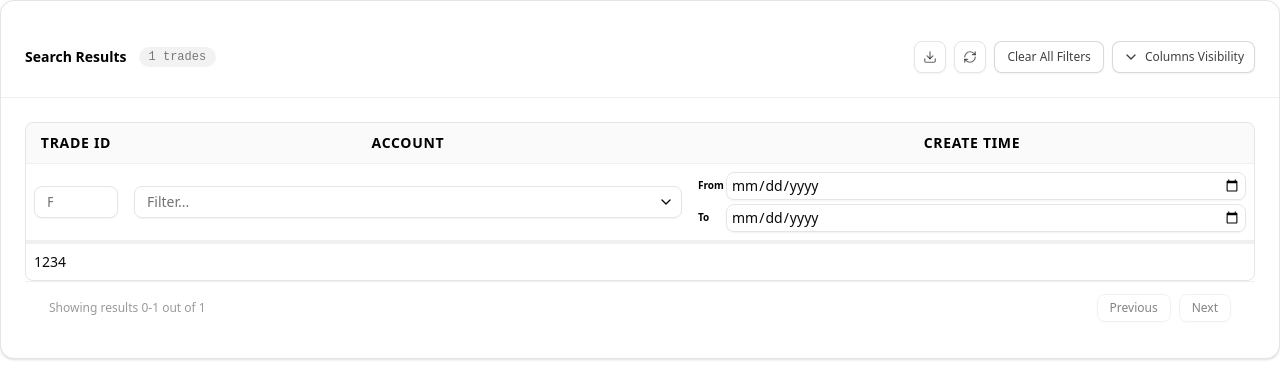
Scenario: TradeResultsTable › renders column visibility dropdown
Click the button "Columns Visibility" at point(1183, 57), box left=1112, top=41, right=1255, bottom=73
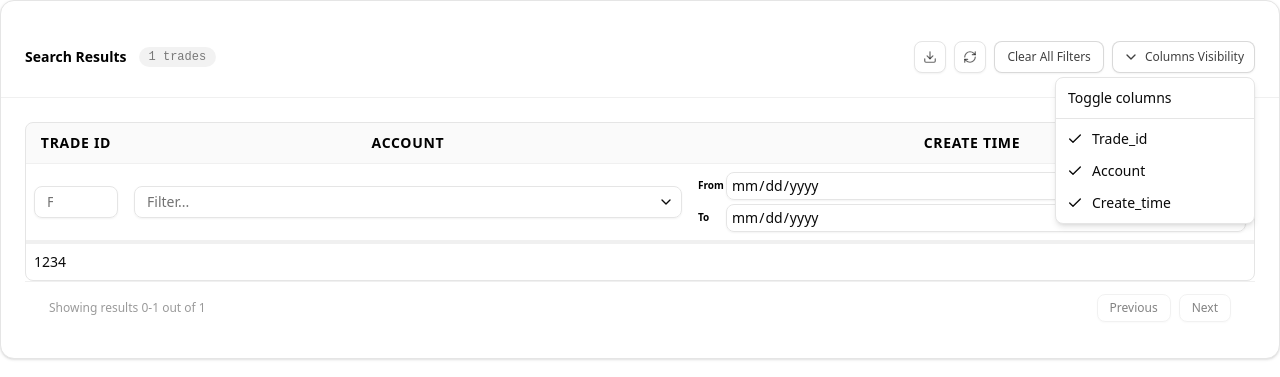
Now the text "Toggle columns" is shown, box left=1068, top=88, right=1172, bottom=107
